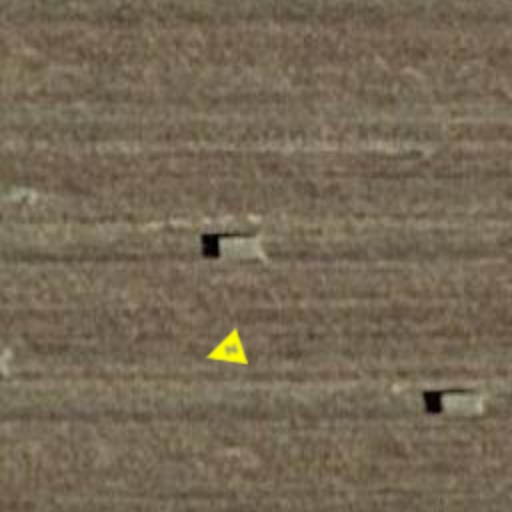triangle: (200, 328, 248, 376)
